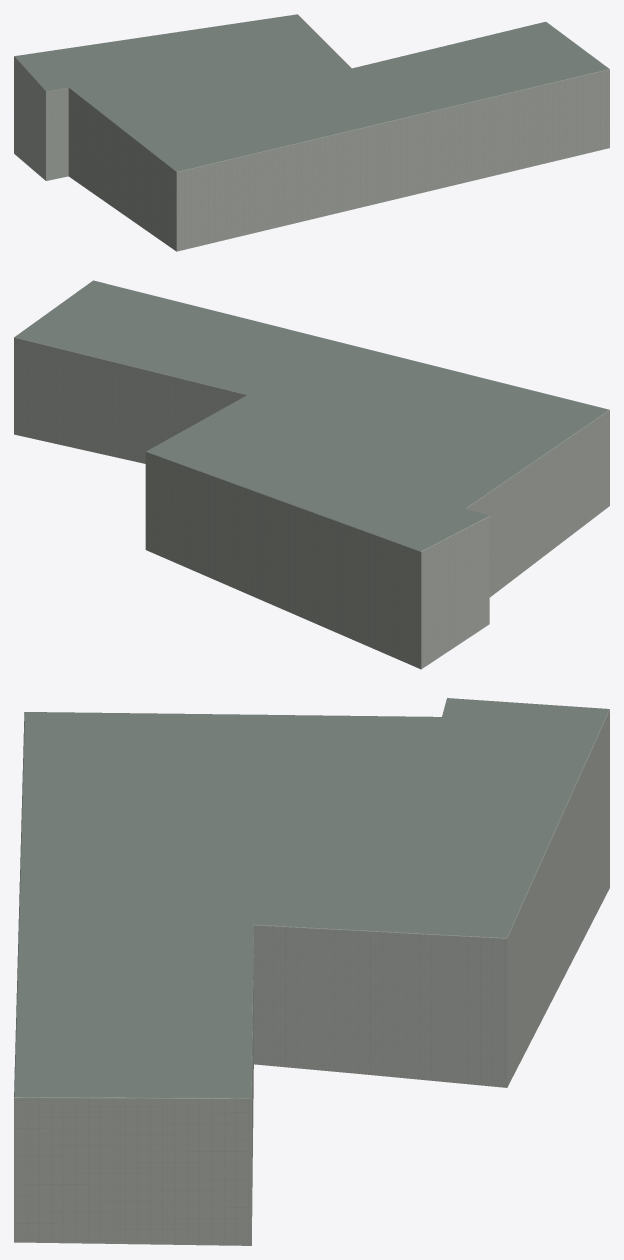
Rendered from intact.glb.
3 views of the same model, one above another, from view 1: azimuth 30°, elevation 25°; view 2: azimuth 150°, elevation 25°; view 3: azimuth 270°, elevation 25° (orthographic). The views are drawn at different scales.
Visible parts, largest first — view 1: Practice_Intact; view 2: Practice_Intact; view 3: Practice_Intact.
Part boxes in pixels (box(x1,y1,x2,y2)): Practice_Intact: box(14, 14, 609, 251); Practice_Intact: box(14, 280, 609, 669); Practice_Intact: box(14, 698, 609, 1245).
Size of the model in its own units: 2.8 by 0.5844 by 1.76.
Materials: 2 (1 with a texture image).
